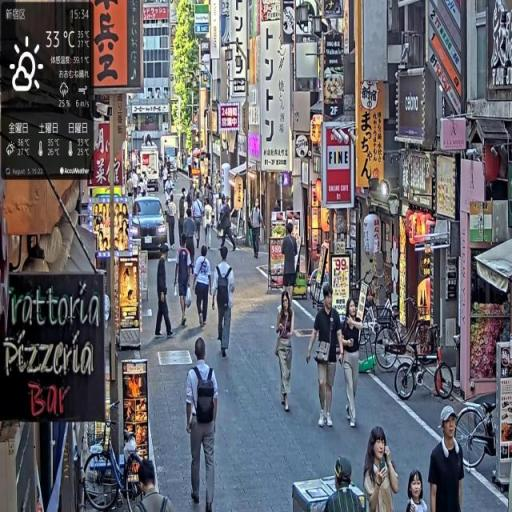person: (185, 339, 219, 512), (308, 288, 344, 431), (428, 404, 466, 512), (340, 297, 366, 432), (363, 425, 401, 512), (274, 290, 296, 415), (214, 244, 237, 360), (156, 244, 177, 341), (138, 460, 175, 512), (194, 244, 214, 333), (281, 223, 301, 310), (175, 239, 194, 329), (406, 469, 431, 512), (251, 199, 264, 263), (203, 200, 215, 253)
